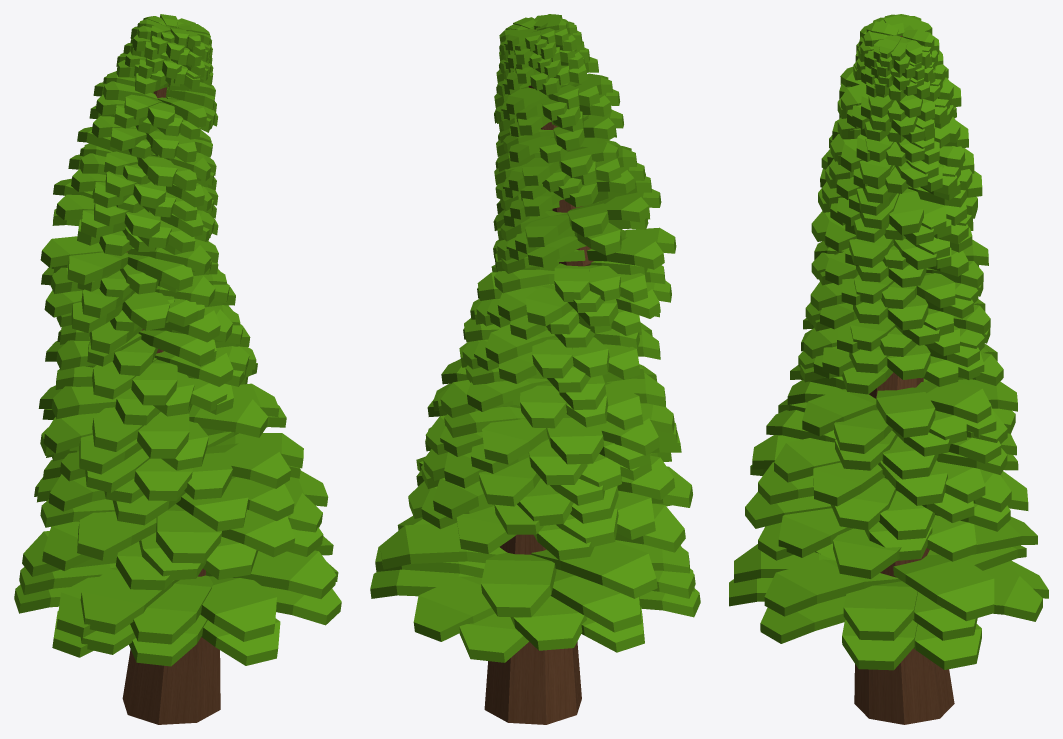
Rendered from BigTree.fbx.
3 renders of one model, left to right at view 1: azimuth 30°, elevation 25°; view 2: azimuth 150°, elevation 25°; view 3: azimuth 270°, elevation 25°, orthographic.
Visible parts, largest first — view 1: Tree3; view 2: Tree3; view 3: Tree3.
Part boxes in pixels (x1=…): Tree3: x1=14, y1=14, x2=341, y2=724; Tree3: x1=370, y1=14, x2=700, y2=724; Tree3: x1=729, y1=14, x2=1048, y2=724.
Bounding box in the file's own units: 2163 × 4950 × 2117.
